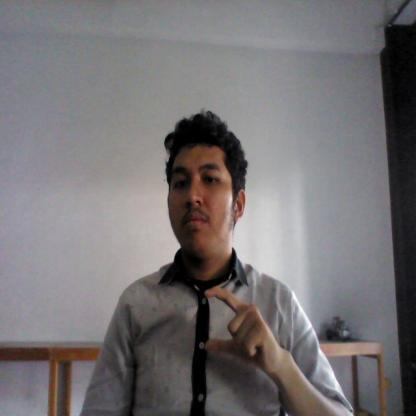C: (197, 285, 282, 380)
